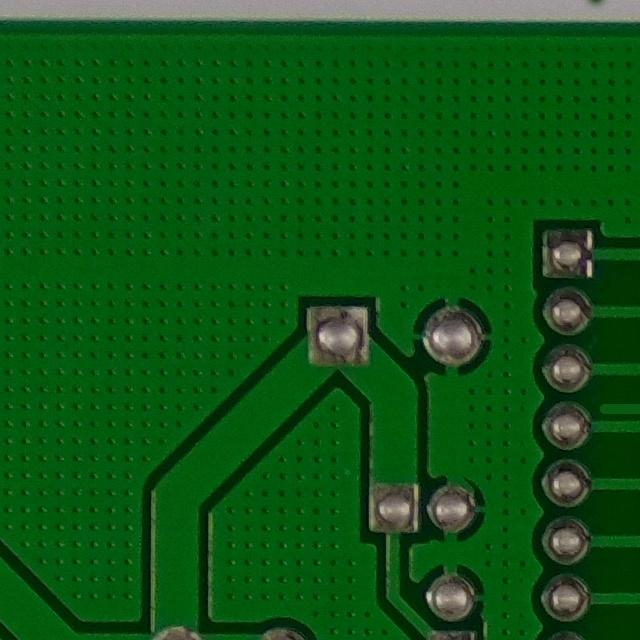spurious_copper: (595, 394, 640, 419)
